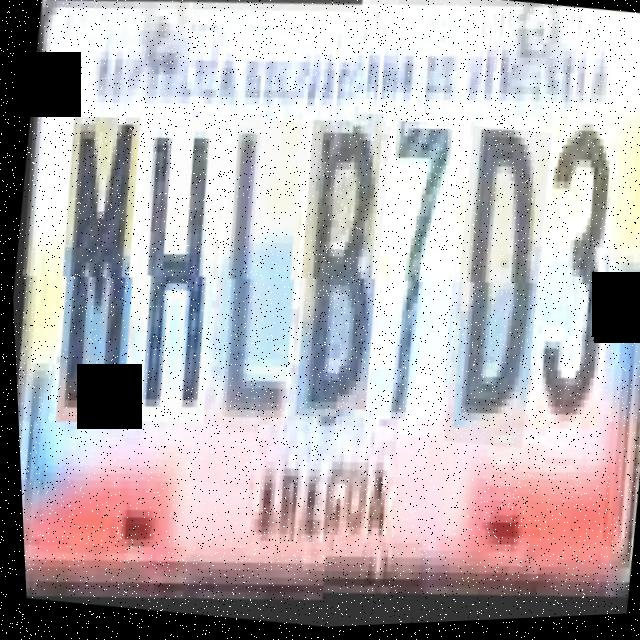3: (508, 123, 636, 458)
7: (349, 124, 477, 445)
B: (273, 121, 401, 435)
D: (429, 127, 561, 456)
H: (107, 114, 238, 436)
L: (191, 118, 320, 439)
M: (34, 111, 158, 432)
